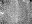person: (1, 11, 4, 15)
